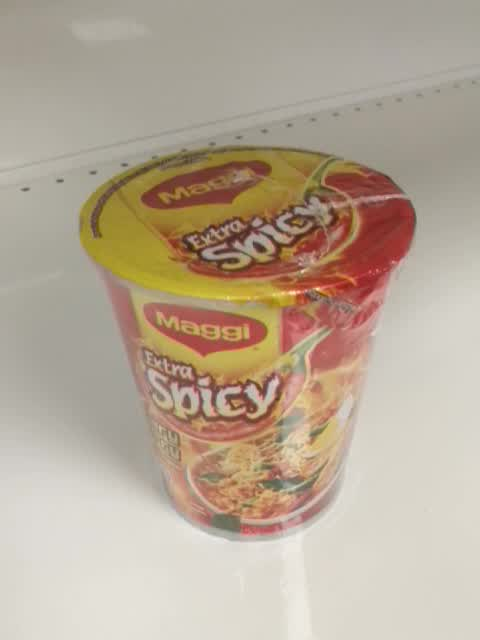maggi: (76, 144, 417, 544)
